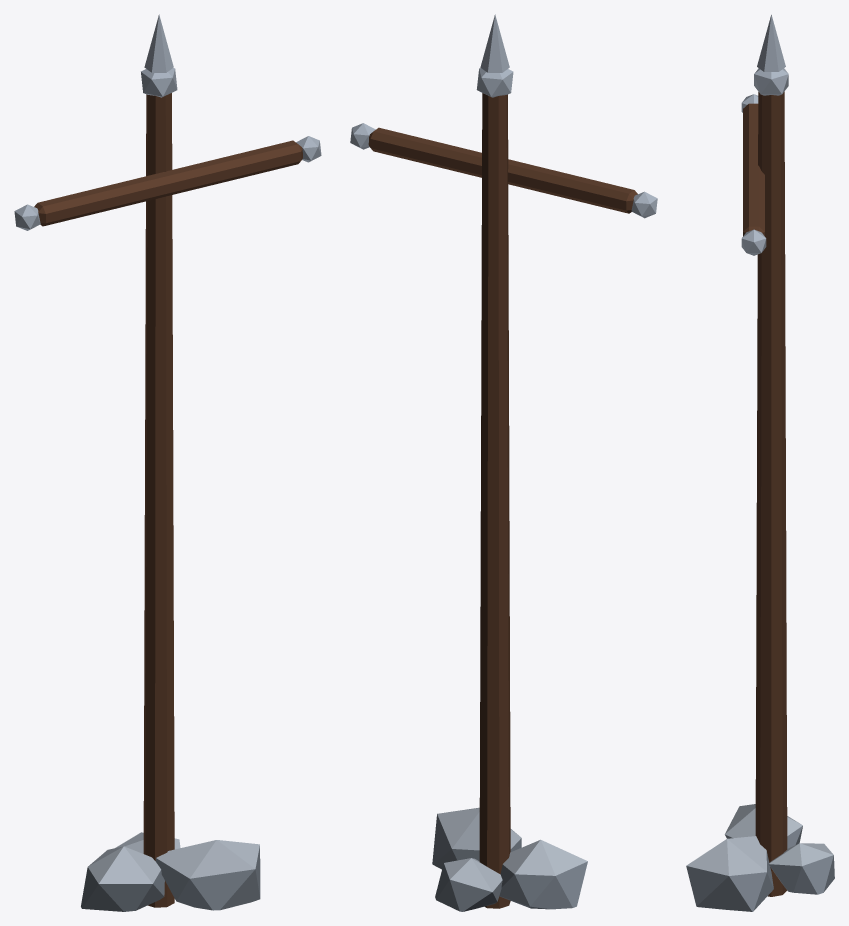
Rendered from Prop_Banner_Red.fbx.
The picture shows the model from 3 angles, left to right: view 1: azimuth 30°, elevation 25°; view 2: azimuth 150°, elevation 25°; view 3: azimuth 270°, elevation 25°; orthographic projection.
Parts seen in each view (by area): view 1: Prop_Banner_Red.002; view 2: Prop_Banner_Red.002; view 3: Prop_Banner_Red.002.
Part boxes in pixels (<box>): Prop_Banner_Red.002: <box>14,14,321,911</box>; Prop_Banner_Red.002: <box>350,14,657,911</box>; Prop_Banner_Red.002: <box>686,14,834,911</box>.
Bounding box in the file's own units: 1.19 × 3.32 × 0.511.
